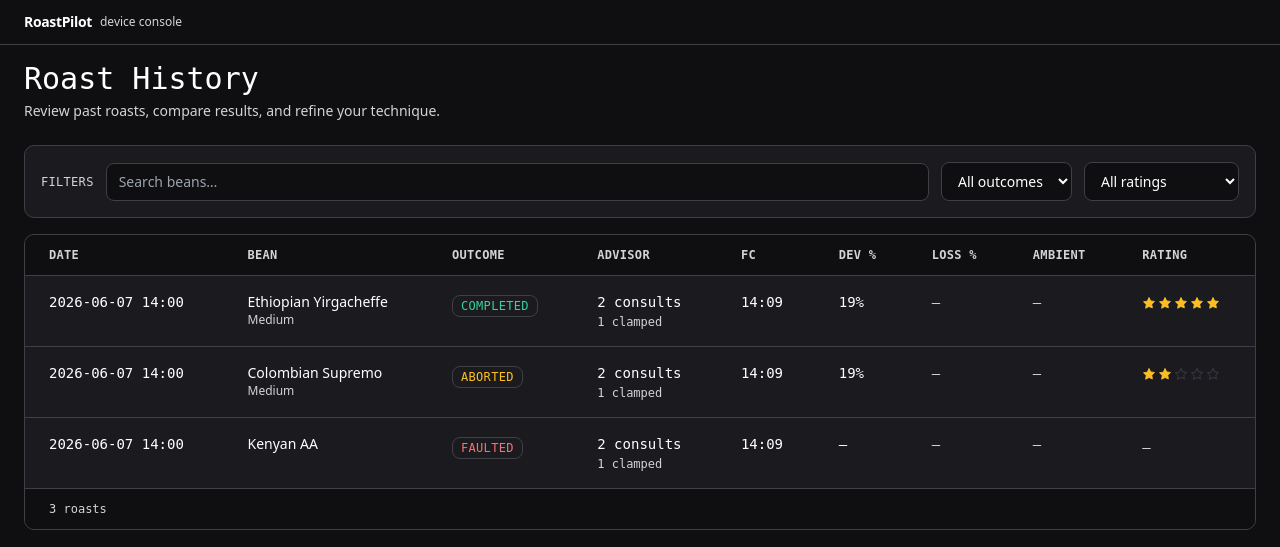
Test: HistoryPage › shows the no-matches state and clears filters back to the full list
Expected: the number of links with test id "history-row" is 3, x1=25 y1=276 x2=1255 y2=346; x1=25 y1=346 x2=1255 y2=418; x1=25 y1=418 x2=1255 y2=488
Type "nonexistent" into the search field labelled "Search beans". click: (517, 182)
box: x1=106 y1=162 x2=929 y2=200
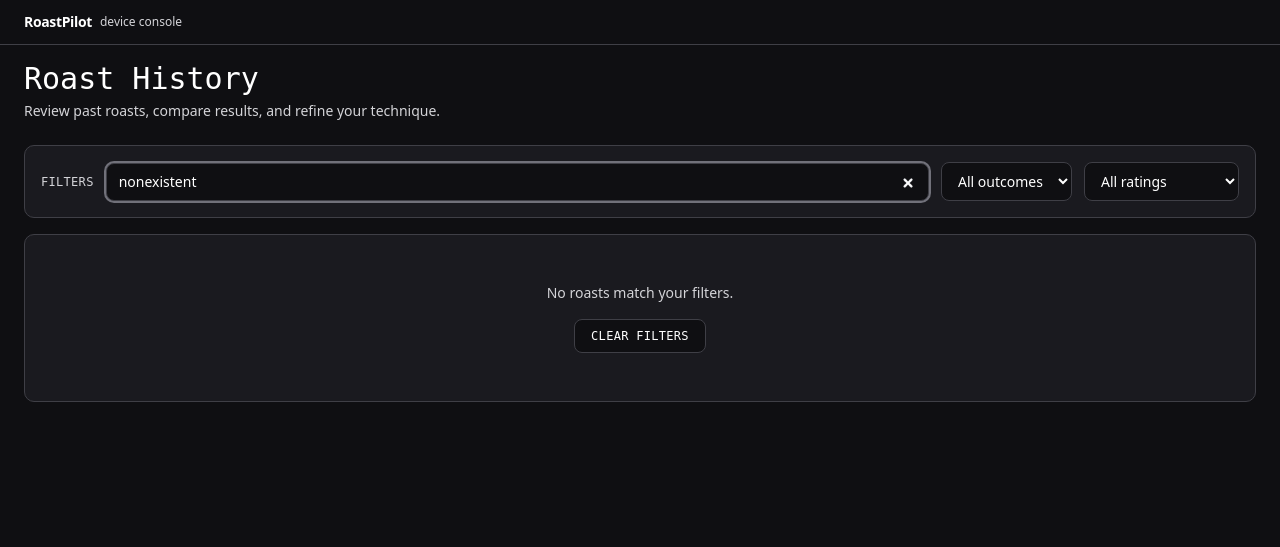
Result: the element with test id "history-no-matches" is shown at x1=24 y1=234 x2=1256 y2=402
Result: the element with test id "history-table" is gone
Click the button "Clear filters". click: click(640, 336)
box: x1=574 y1=319 x2=706 y2=353
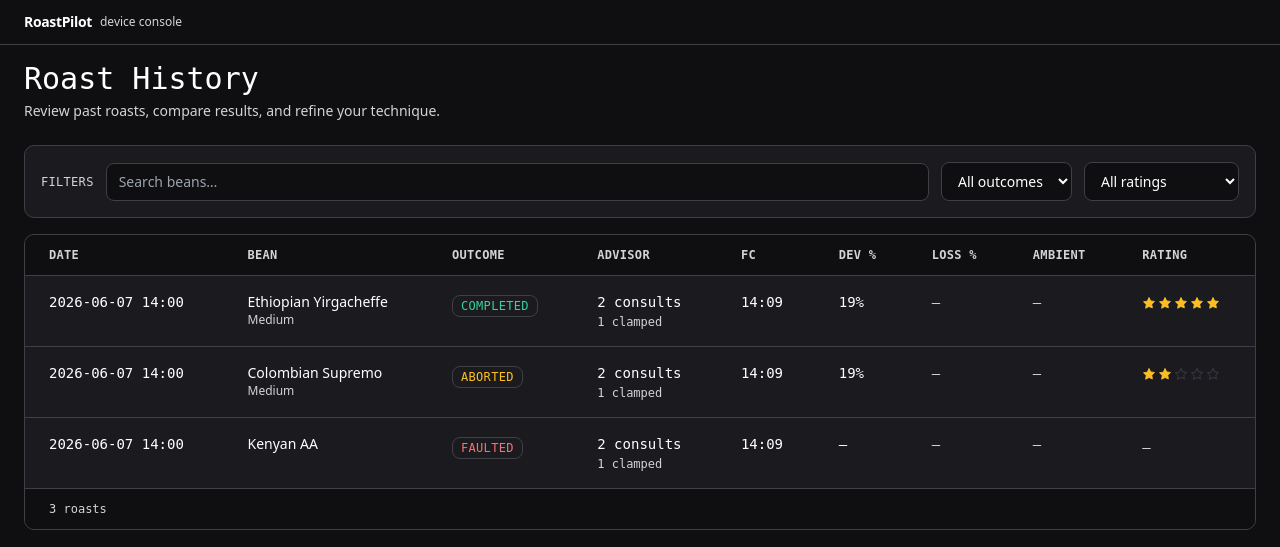
Result: the number of links with test id "history-row" is 3 at x1=25 y1=276 x2=1255 y2=346; x1=25 y1=346 x2=1255 y2=418; x1=25 y1=418 x2=1255 y2=488
